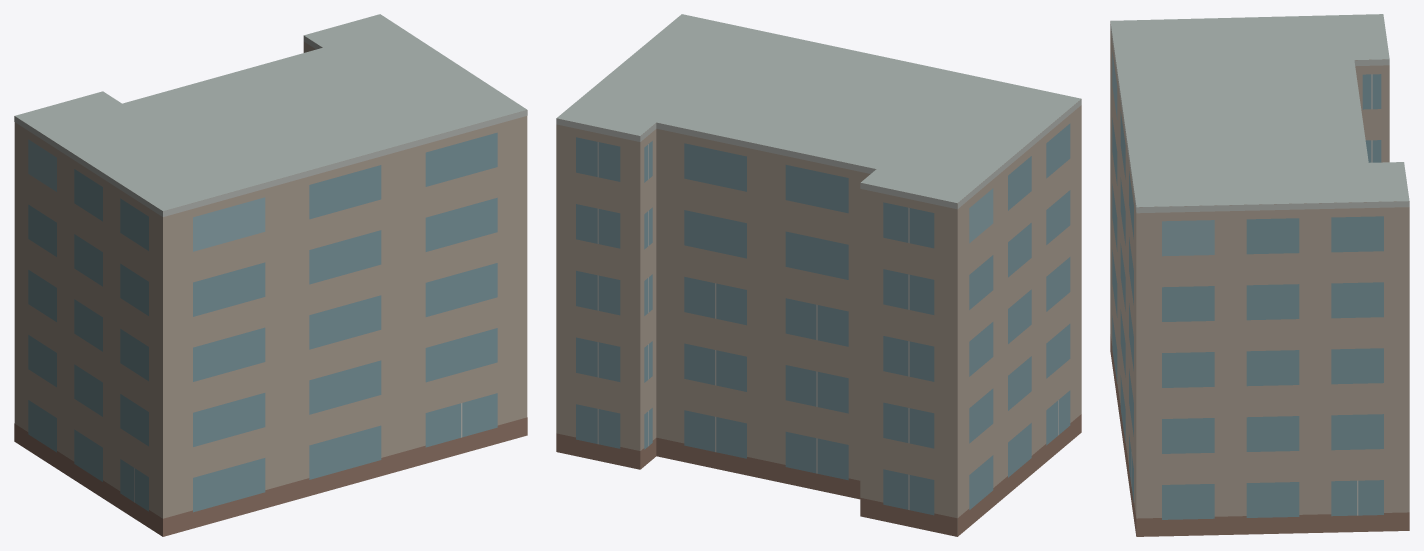
Rendered from survey-upis-33024622.glb.
3 renders of one model, left to right at view 1: azimuth 30°, elevation 25°; view 2: azimuth 150°, elevation 25°; view 3: azimuth 270°, elevation 25°, orthographic. The views are drawn at different scales.
Visible parts, largest first — view 1: survey-upis-33024622.tmp; view 2: survey-upis-33024622.tmp; view 3: survey-upis-33024622.tmp.
Part boxes in pixels (x1,y1,x2,y2): survey-upis-33024622.tmp: (14,14,527,536); survey-upis-33024622.tmp: (556,14,1081,536); survey-upis-33024622.tmp: (1110,14,1409,536).
Bounding box in the file's own units: 16.72 × 13.3 × 10.95.
